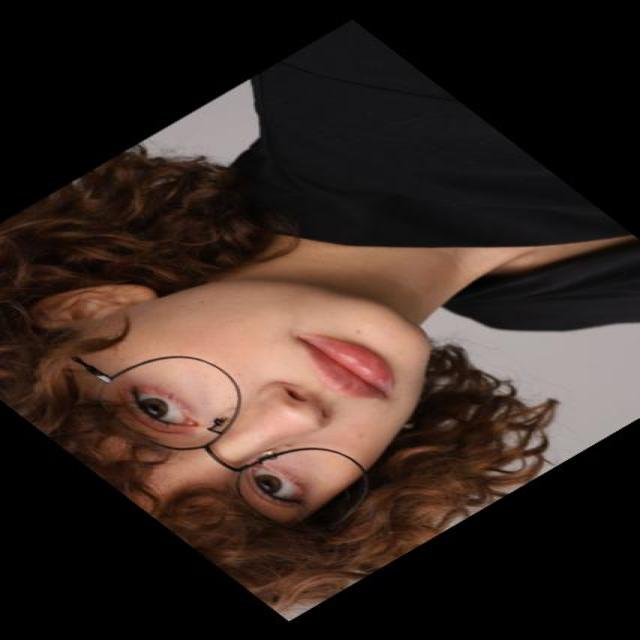glasses: (75, 324, 394, 550)
